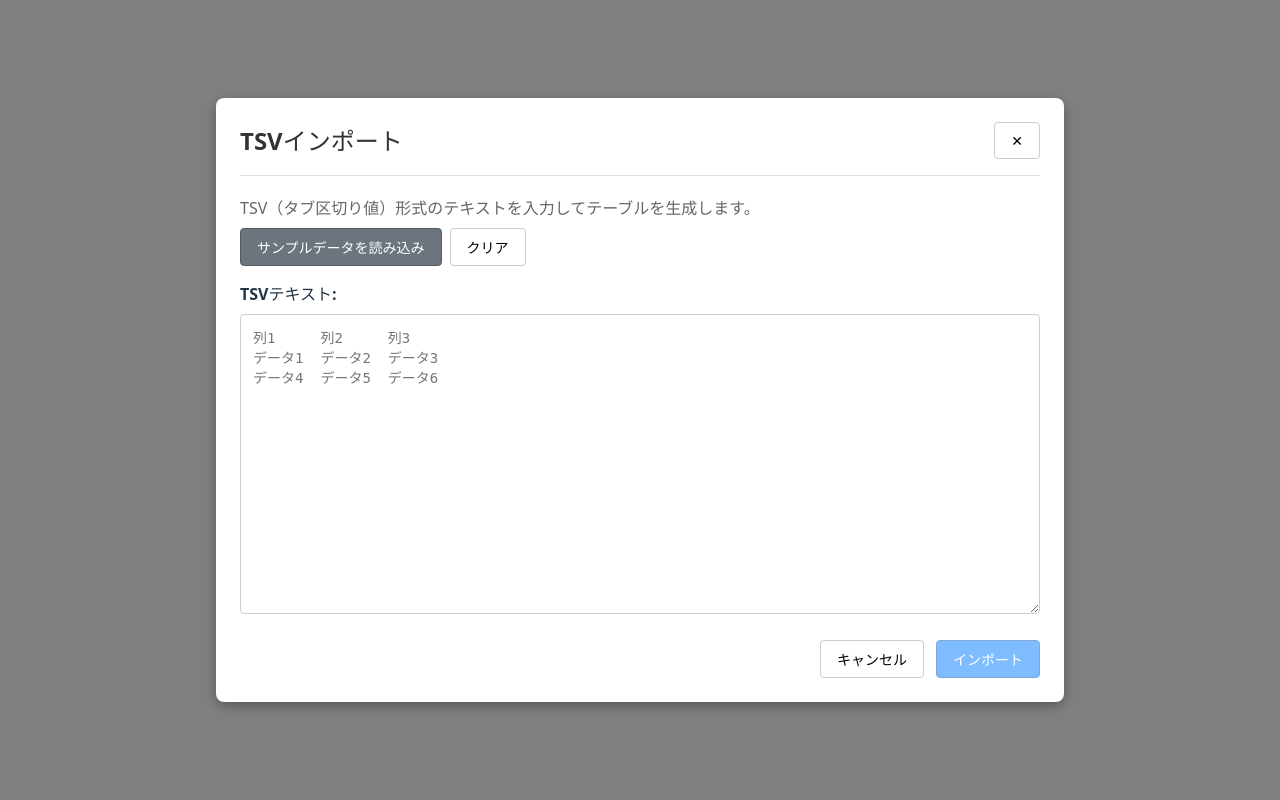
TSVImportModal › サンプルデータボタンでサンプルTSVが読み込まれる
Step 1. Click the button "サンプルデータを読み込み" → (341, 247), box [240,228,442,266]
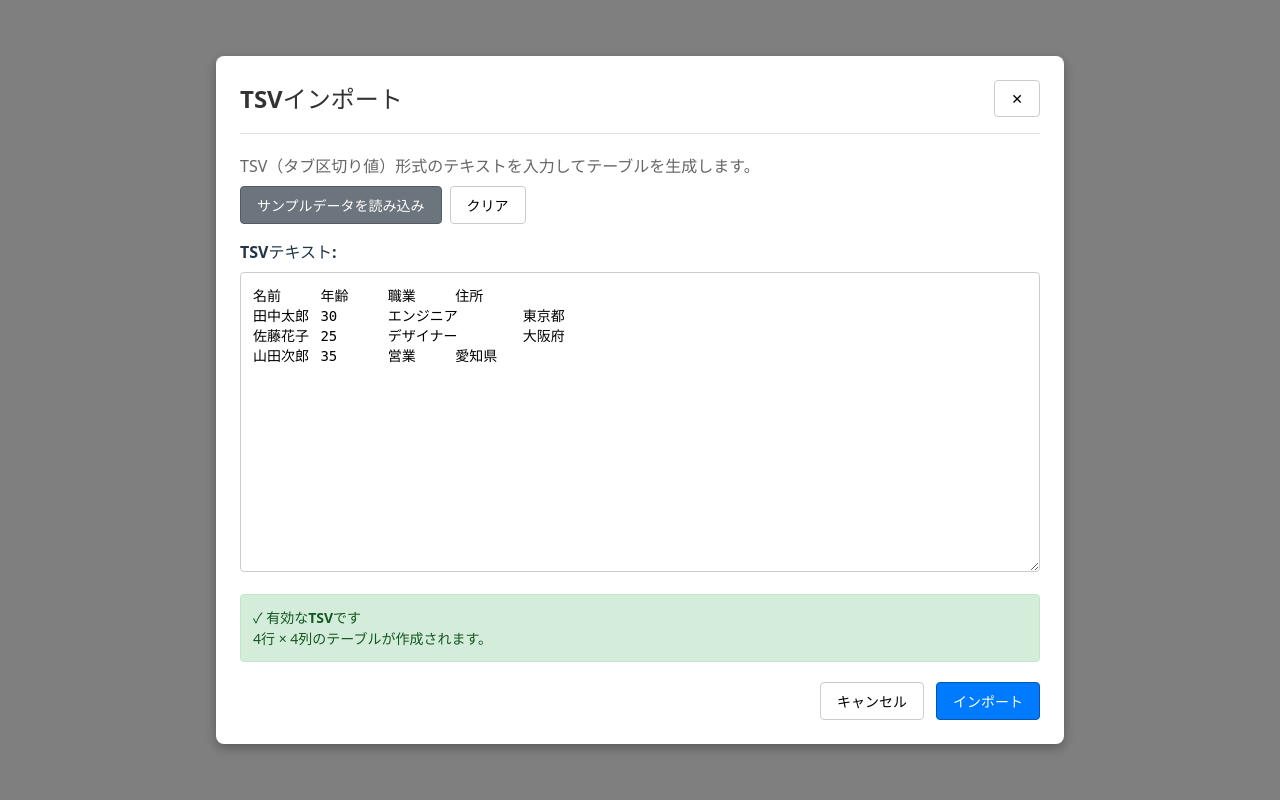
Result: the text "✓ 有効なTSVです" is shown at [253,608,361,627]
